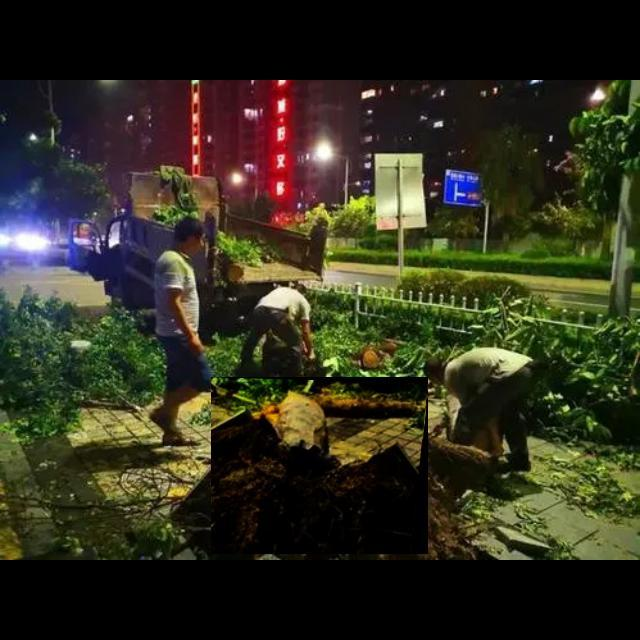fallen_tree: (211, 377, 429, 555)
